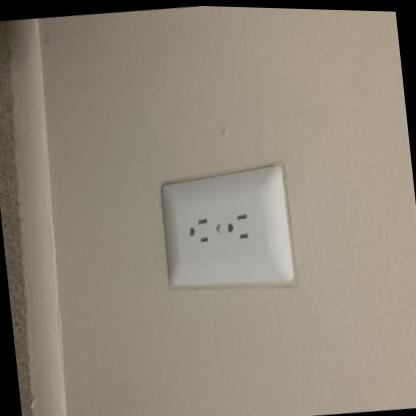OUTLET: (156, 162, 293, 291)
